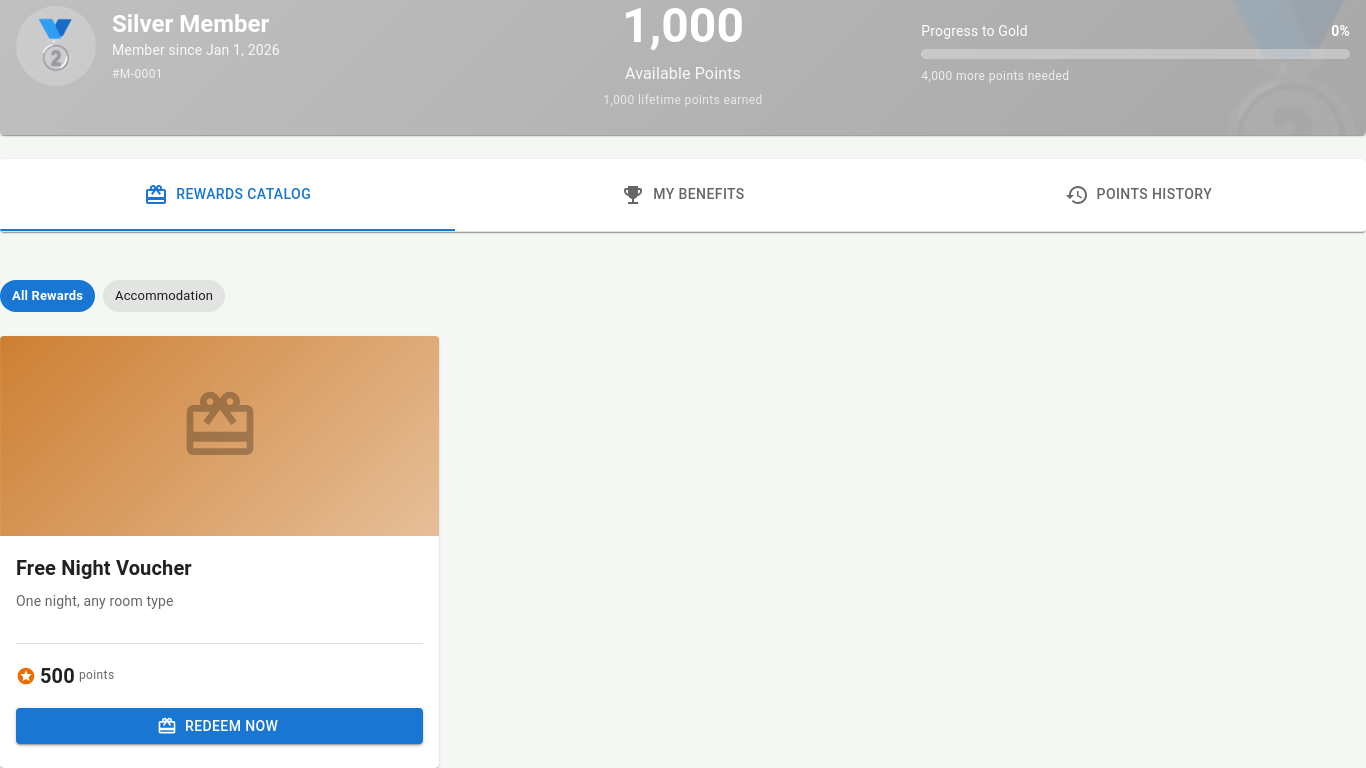
Scenario: LoyaltyDashboard member view › surfaces a failed redemption instead of the success banner
(page scrolled)
Click the button "Redeem Now": (220,726) [16, 708, 423, 744]
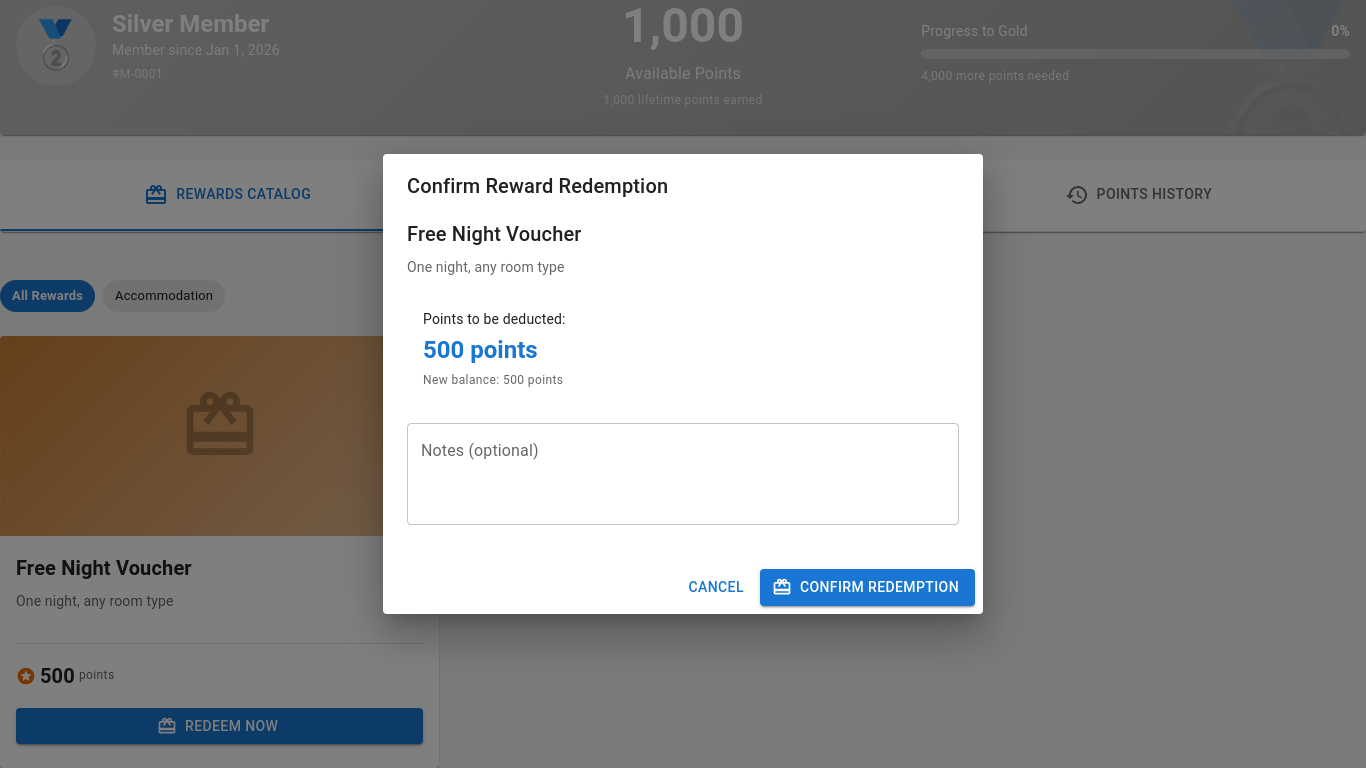
Click the button "Confirm Redemption": (867,587) [760, 569, 975, 606]
(page scrolled)
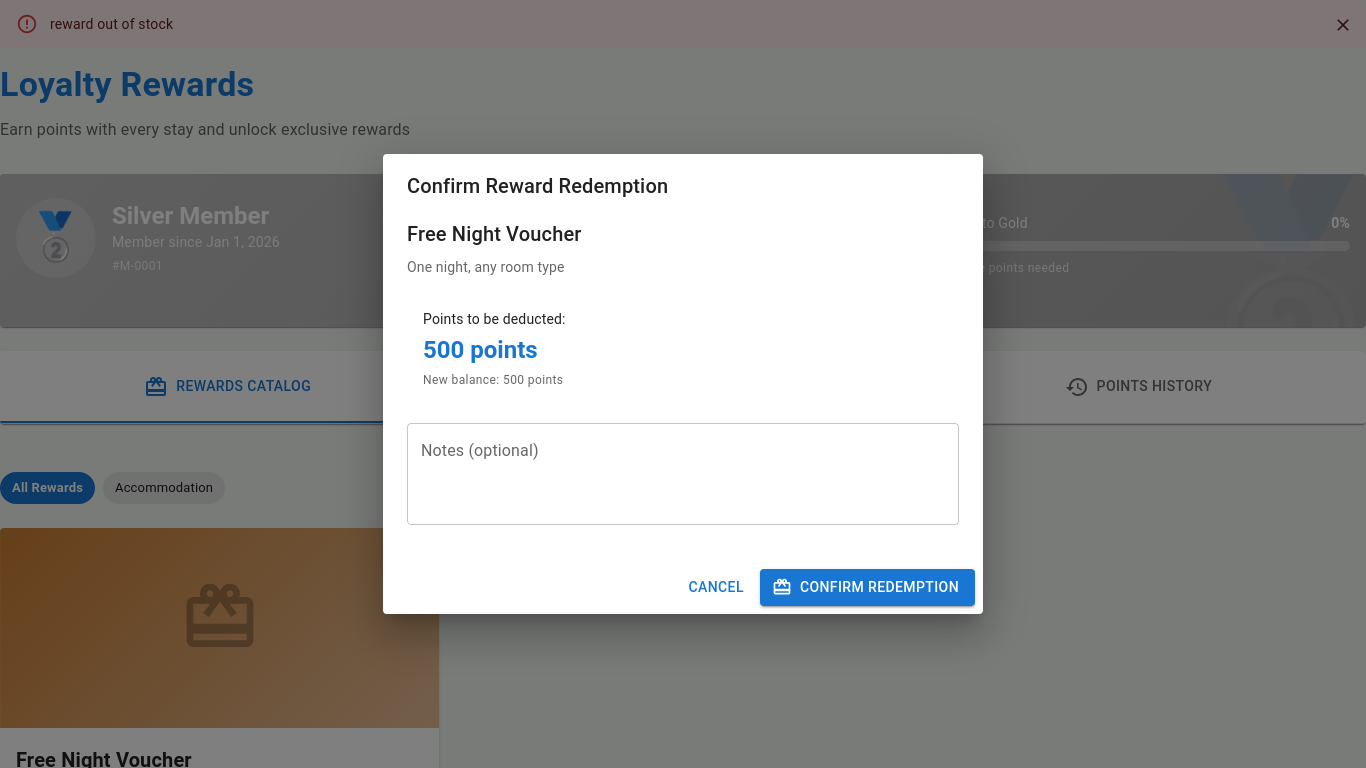
Now the text "reward out of stock" is shown, box [50, 16, 173, 32]
